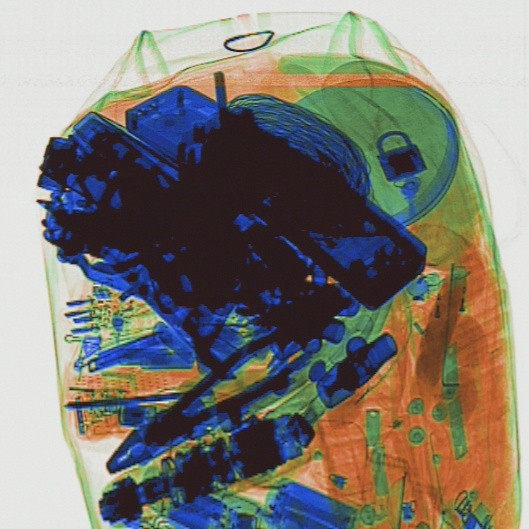jianruigongju: (62, 366, 315, 414)
lighter: (409, 271, 451, 375), (438, 261, 473, 363)
qianzi: (102, 320, 314, 475)
